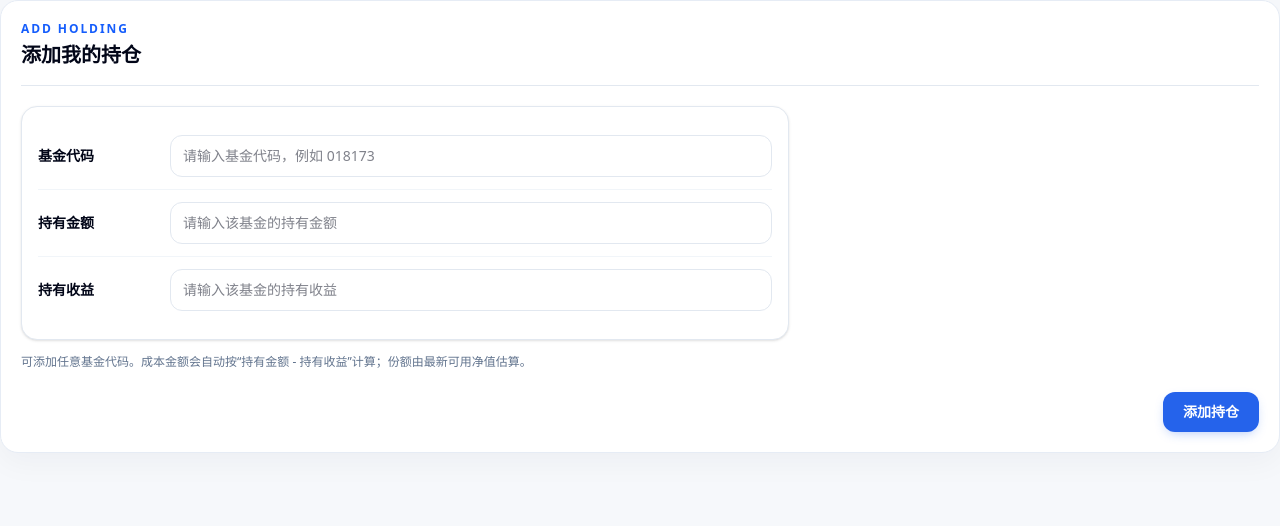
Test: portfolio components › validates holding form fields
Click the button "添加持仓": (1211, 412) [1163,392,1259,432]
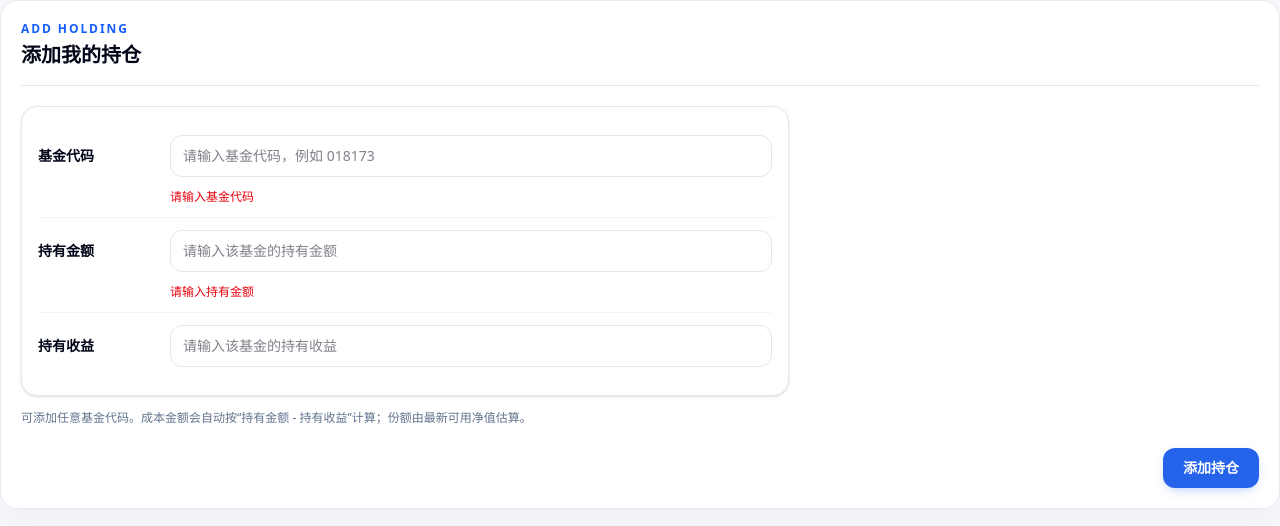
Now the text "请输入基金代码" is shown, box [170,188,254,205]
Now the text "请输入持有金额" is shown, box [170,283,254,300]
